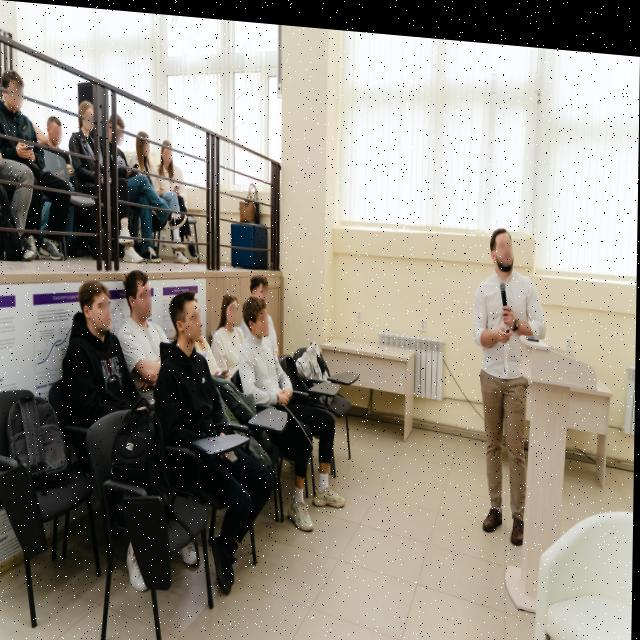Person: (157, 280, 273, 602), (457, 208, 559, 541), (265, 279, 343, 541), (0, 64, 71, 259), (60, 275, 131, 468), (104, 106, 158, 260), (68, 102, 113, 242), (123, 263, 160, 413), (159, 129, 200, 250), (134, 123, 175, 227), (213, 290, 254, 380), (44, 112, 73, 191)
